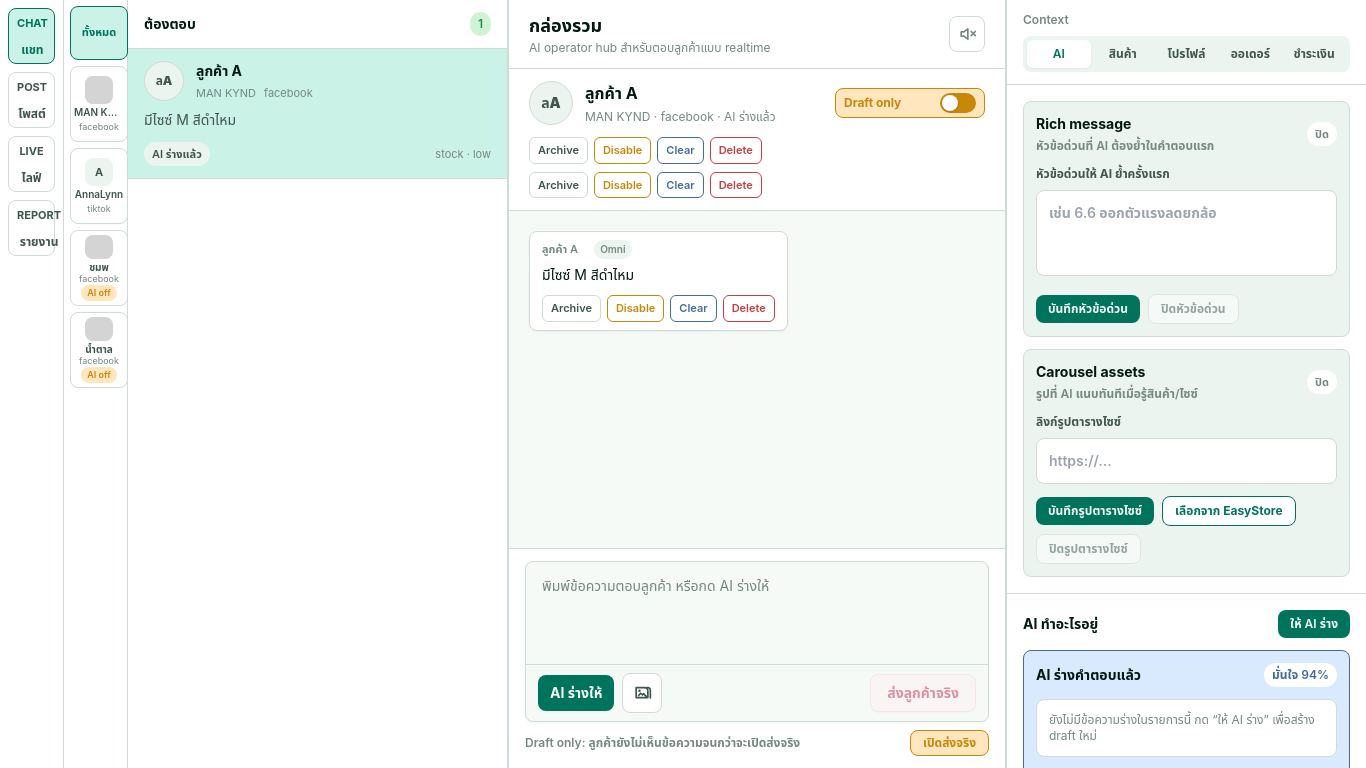
OmniWorkbench › renders inbox, clean AI draft button, order desk, and payment desk without system tools in context
Check: the heading "กล่องรวม" is shown, box [529,15,602,36]
Check: the 2nd text "MAN KYND" is shown, box [74,106,124,119]
Click the button "ชำระเงิน" at (1314, 54), box [1282,40,1346,68]
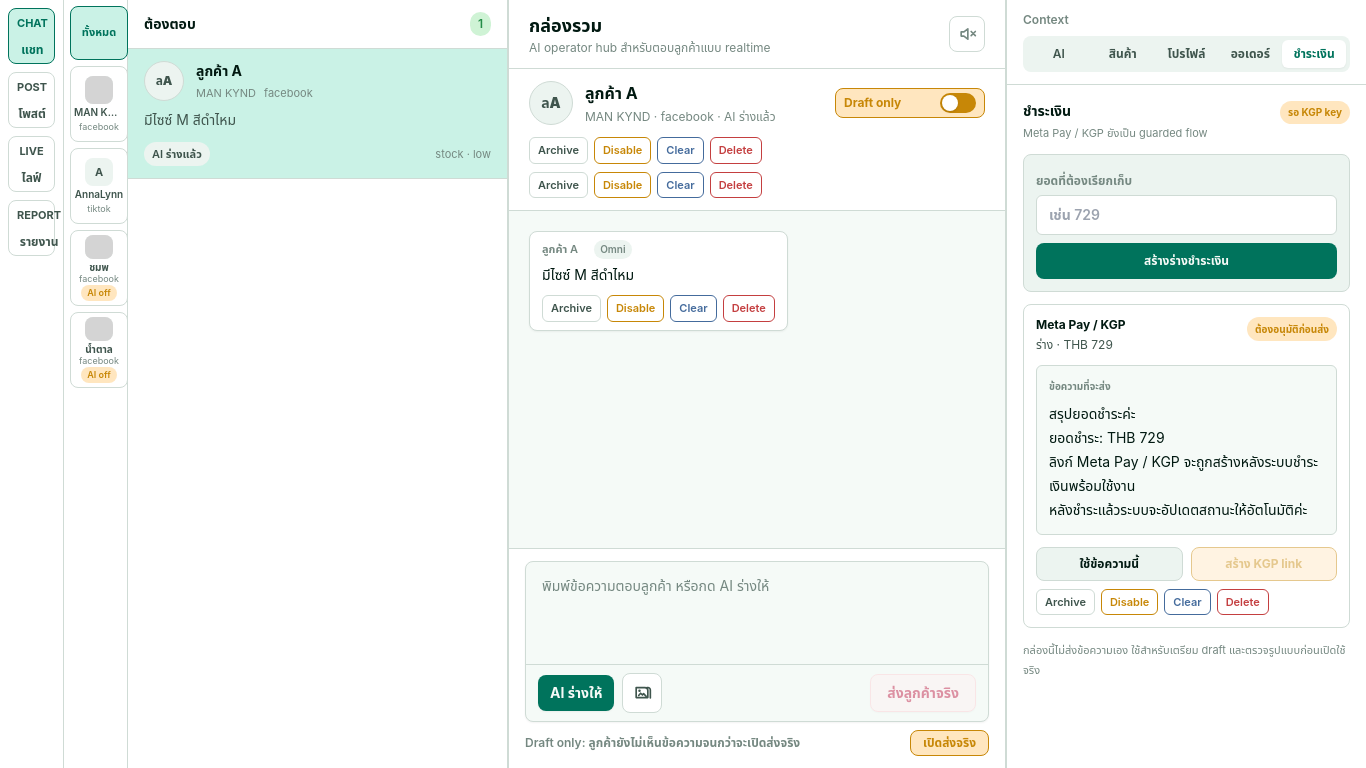
Check: the text "ข้อความที่จะส่ง" is shown, box [1049,380,1111,392]
Check: the button "สร้าง KGP link" is disabled, box [1190,546,1337,580]
